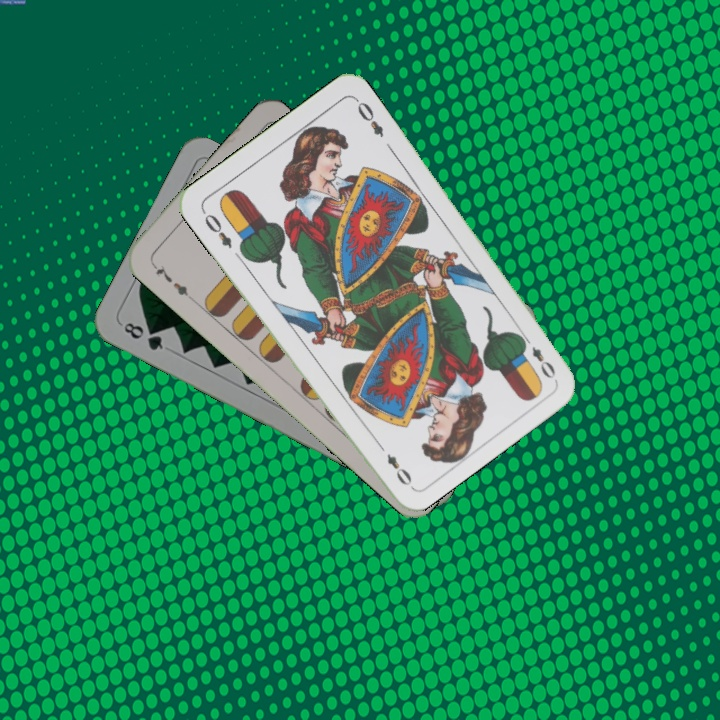E7: (148, 259, 192, 299)
EO: (517, 330, 559, 382), (198, 206, 235, 251)
G8: (119, 318, 166, 353)
